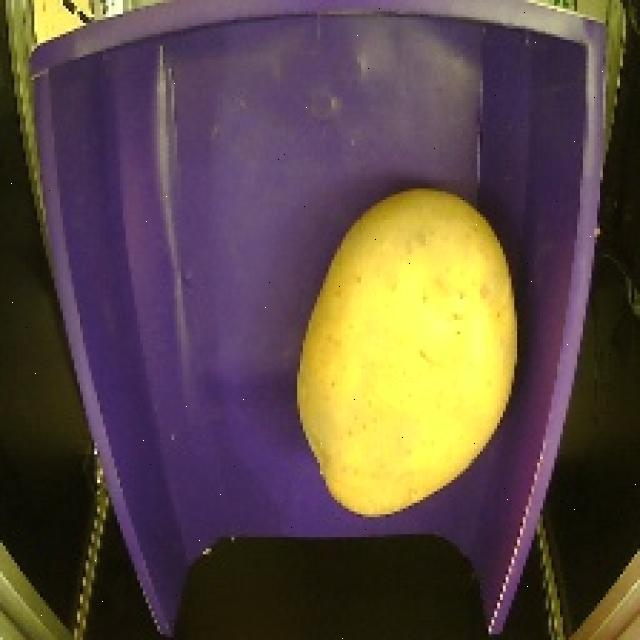full_potato: (284, 174, 530, 534)
